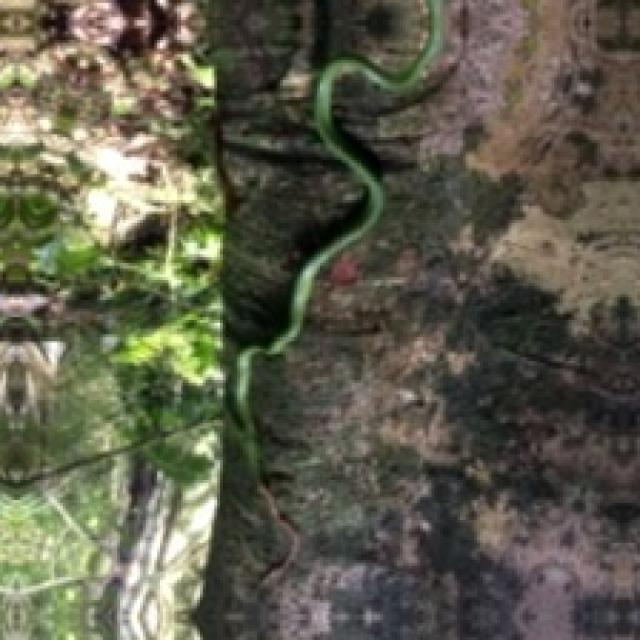red-tailed green ratsnake: (230, 0, 442, 473)
